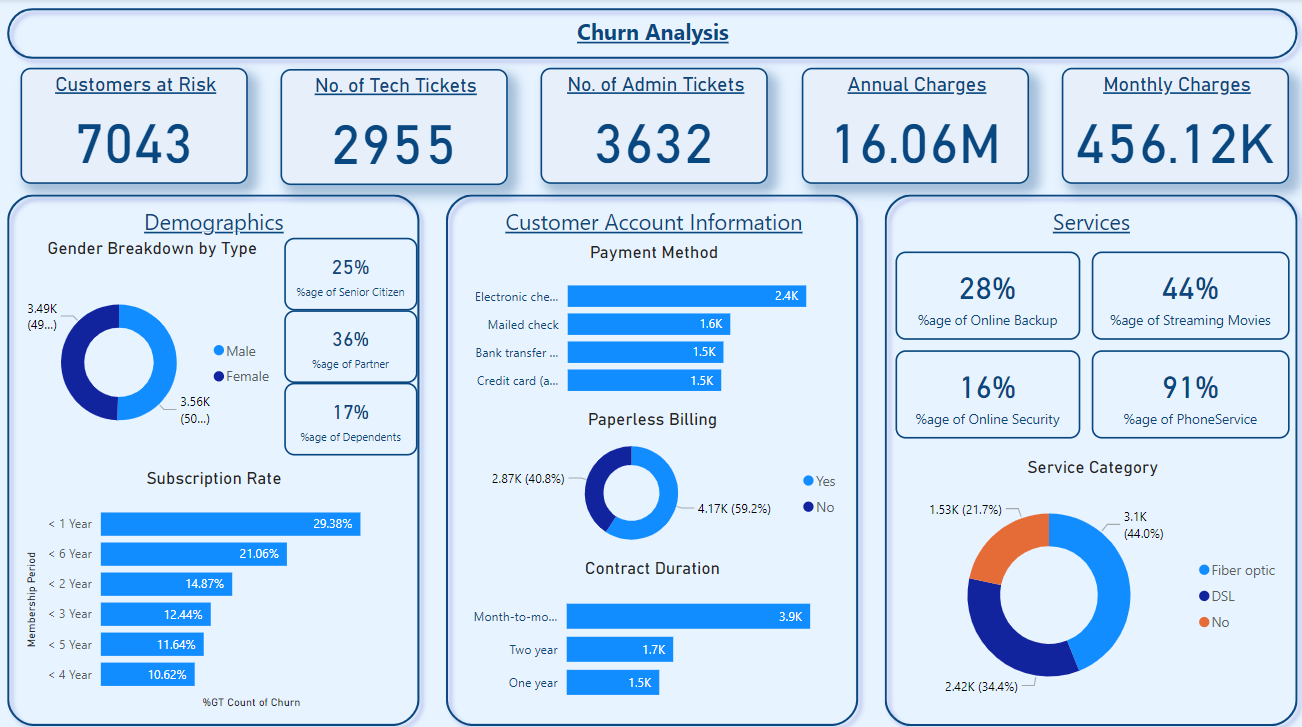

This screenshot's page, from the dashboard's own definition file:
{"tool":"powerbi","page":{"name":"Churn Analysis","canvas":[1280,720],"ordinal":1},"visuals":[{"type":"shape","box":[0,0,1280.3,67.4],"z":0},{"type":"textbox","box":[126.2,12.3,1029.2,42.5],"z":1000},{"type":"card","title":"Customers at Risk","fields":{"Values":["CountNonNull(01 Churn-Dataset.customerID)"]},"box":[21.5,67.4,222.2,113.3],"z":2000},{"type":"card","title":"No. of Tech Tickets","fields":{"Values":["Sum(01 Churn-Dataset.numTechTickets)"]},"box":[276.3,68.6,222.3,113.9],"z":3000},{"type":"card","title":"No. of Admin Tickets","fields":{"Values":["Sum(01 Churn-Dataset.numAdminTickets)"]},"box":[531.1,67.2,222.3,113.9],"z":4000},{"type":"card","title":"Annual Charges","fields":{"Values":["Sum(01 Churn-Dataset.TotalCharges)"]},"box":[786,67.2,222.3,113.9],"z":5000},{"type":"card","title":"Monthly Charges","fields":{"Values":["Sum(01 Churn-Dataset.MonthlyCharges)"]},"box":[1040.9,67.4,222.2,113.3],"z":6000},{"type":"shape","box":[0,182.5,421.3,537.9],"z":7000},{"type":"textbox","box":[39.8,197.6,341.7,49.4],"z":8000},{"type":"shape","box":[429.5,182.5,421.3,537.9],"z":9000},{"type":"textbox","box":[470.7,197.6,341.7,49.4],"z":10000},{"type":"shape","box":[858.4,182.2,421.9,538],"z":11000},{"type":"textbox","box":[898.8,197.6,341.7,49.4],"z":12000},{"type":"donutChart","title":"Gender Breakdown by Type","fields":{"Category":["01 Churn-Dataset.gender"],"Y":["CountNonNull(01 Churn-Dataset.gender)"]},"box":[22,233.3,258,225],"z":13000},{"type":"barChart","title":"Subscription Rate","fields":{"Category":["01 Churn-Dataset.Membership Period"],"Y":["CountNonNull(01 Churn-Dataset.Churn)"]},"box":[21.5,458.8,378.5,240.9],"z":14000},{"type":"card","title":"Customers at Risk","fields":{"Values":["01 Churn-Dataset.%age of Senior Citizen"]},"box":[279.9,233.3,130.4,71.4],"z":15000},{"type":"card","title":"Customers at Risk","fields":{"Values":["01 Churn-Dataset.%age of Partner"]},"box":[279.9,304.6,130.4,71.4],"z":16000},{"type":"card","title":"Customers at Risk","fields":{"Values":["01 Churn-Dataset.%age of Dependents"]},"box":[279.9,376,130.4,71.4],"z":17000},{"type":"barChart","title":"Payment Method","fields":{"Category":["01 Churn-Dataset.PaymentMethod"],"Y":["CountNonNull(01 Churn-Dataset.PaymentMethod)"]},"box":[447.3,237.4,388.3,163.3],"z":18000},{"type":"donutChart","title":"Paperless Billing","fields":{"Category":["01 Churn-Dataset.PaperlessBilling"],"Y":["CountNonNull(01 Churn-Dataset.PaperlessBilling)"]},"box":[447.3,400.7,385.6,145.5],"z":19000},{"type":"barChart","title":"Contract Duration","fields":{"Category":["01 Churn-Dataset.Contract"],"Y":["CountNonNull(01 Churn-Dataset.Contract)"]},"box":[447.3,546.1,385.6,153.7],"z":20000},{"type":"donutChart","title":"Service Category","fields":{"Category":["01 Churn-Dataset.InternetService"],"Y":["CountNonNull(01 Churn-Dataset.InternetService)"]},"box":[877.4,447.3,385.7,252.3],"z":21000},{"type":"card","title":"Customers at Risk","fields":{"Values":["01 Churn-Dataset.%age of Online Backup"]},"box":[877.4,246.6,180.6,86],"z":22000},{"type":"card","title":"Customers at Risk","fields":{"Values":["01 Churn-Dataset.%age of Online Security"]},"box":[877.4,344.1,180.6,86],"z":23000},{"type":"card","title":"Customers at Risk","fields":{"Values":["01 Churn-Dataset.%age of PhoneService"]},"box":[1069.5,344.1,193.5,86],"z":24000},{"type":"card","title":"Customers at Risk","fields":{"Values":["01 Churn-Dataset.%age of Streaming Movies"]},"box":[1069.5,246.6,193.5,86],"z":25000}]}

Visuals, with their boxes in screenshot pixels (x1, y1, x2, y2), scaled from the page's 1280x720 canvas onto the 1302x727 screenshot:
shape: x1=0 y1=0 x2=1301 y2=68
textbox: x1=128 y1=12 x2=1175 y2=55
"Customers at Risk" card: x1=22 y1=68 x2=248 y2=182
"No. of Tech Tickets" card: x1=281 y1=69 x2=507 y2=184
"No. of Admin Tickets" card: x1=540 y1=68 x2=766 y2=183
"Annual Charges" card: x1=800 y1=68 x2=1026 y2=183
"Monthly Charges" card: x1=1059 y1=68 x2=1285 y2=182
shape: x1=0 y1=184 x2=429 y2=726
textbox: x1=40 y1=200 x2=388 y2=249
shape: x1=437 y1=184 x2=865 y2=726
textbox: x1=479 y1=200 x2=826 y2=249
shape: x1=873 y1=184 x2=1301 y2=726
textbox: x1=914 y1=200 x2=1262 y2=249
"Gender Breakdown by Type" donutChart: x1=22 y1=236 x2=285 y2=463
"Subscription Rate" barChart: x1=22 y1=463 x2=407 y2=707
"Customers at Risk" card: x1=285 y1=236 x2=417 y2=308
"Customers at Risk" card: x1=285 y1=308 x2=417 y2=380
"Customers at Risk" card: x1=285 y1=380 x2=417 y2=452
"Payment Method" barChart: x1=455 y1=240 x2=850 y2=405
"Paperless Billing" donutChart: x1=455 y1=405 x2=847 y2=552
"Contract Duration" barChart: x1=455 y1=551 x2=847 y2=707
"Service Category" donutChart: x1=892 y1=452 x2=1285 y2=706
"Customers at Risk" card: x1=892 y1=249 x2=1076 y2=336
"Customers at Risk" card: x1=892 y1=347 x2=1076 y2=434
"Customers at Risk" card: x1=1088 y1=347 x2=1285 y2=434
"Customers at Risk" card: x1=1088 y1=249 x2=1285 y2=336
